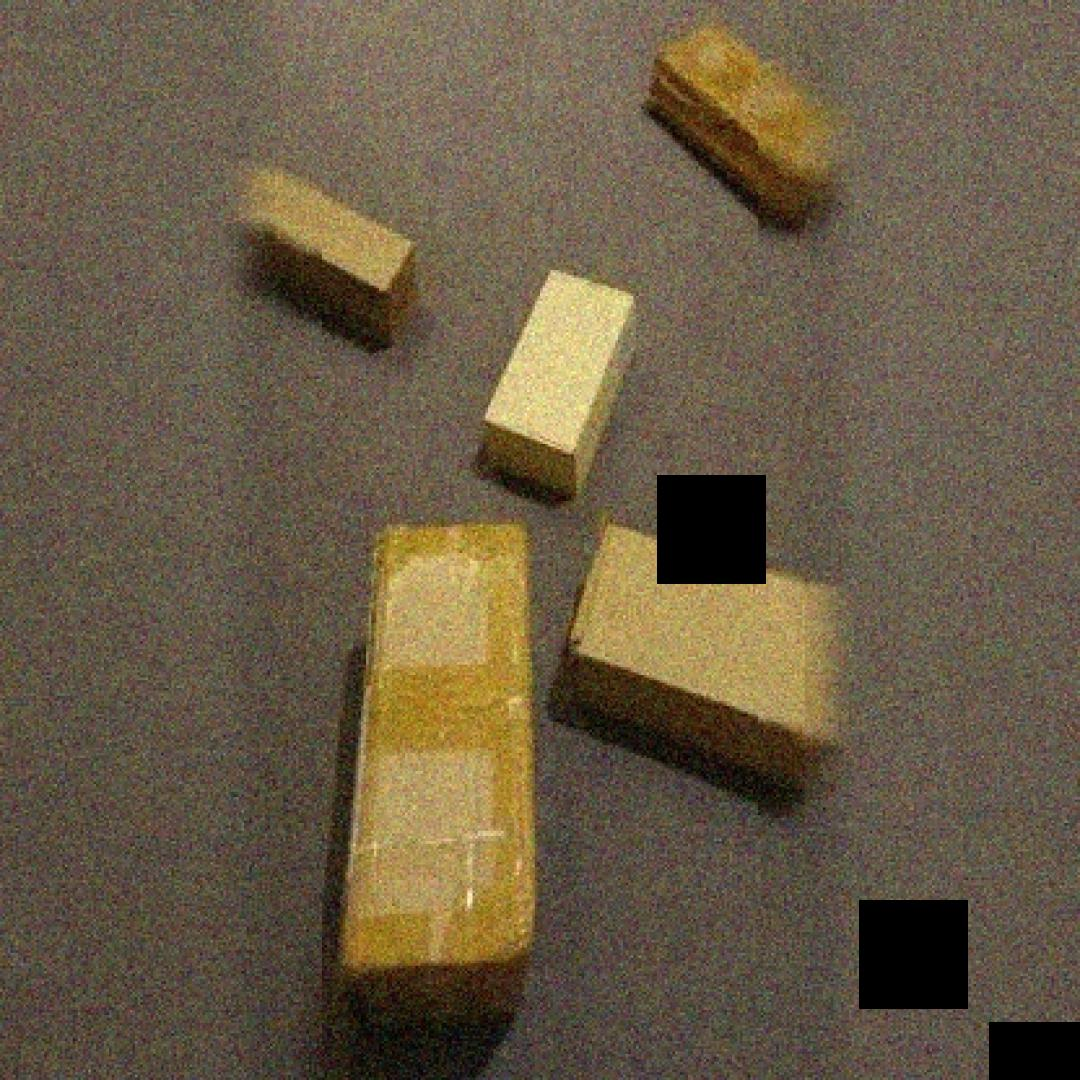package: (345, 527, 538, 1020), (571, 519, 831, 794), (652, 16, 830, 228), (486, 268, 636, 500), (249, 164, 418, 350)
